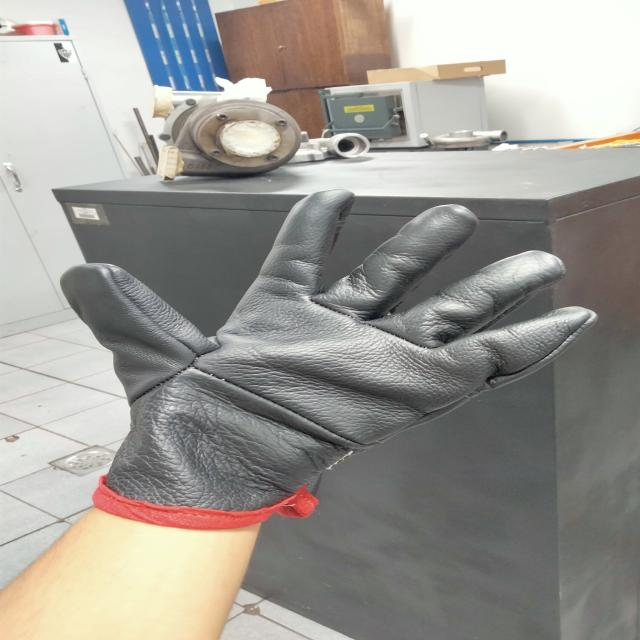Gloves: (63, 185, 595, 517)
